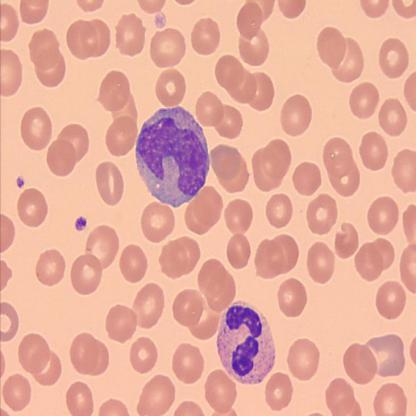Monocyte: (133, 104, 212, 209)
